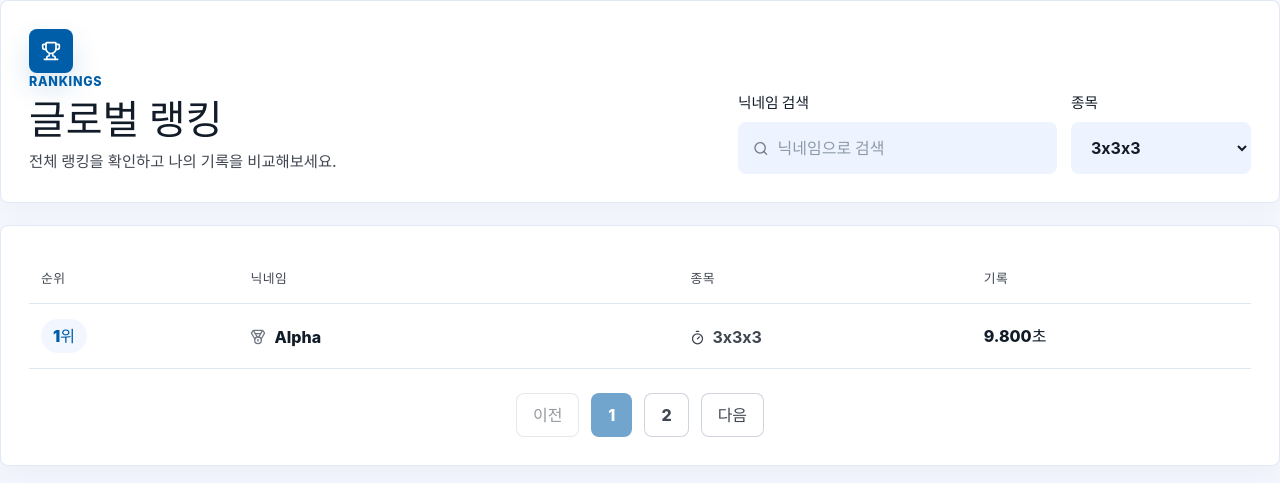
Test: RankingsPage › should_reset_page_to_first_when_event_changes
Check: the text "Alpha" is shown, box [274, 325, 321, 349]
Click the button "다음" at (732, 416), box [701, 394, 764, 438]
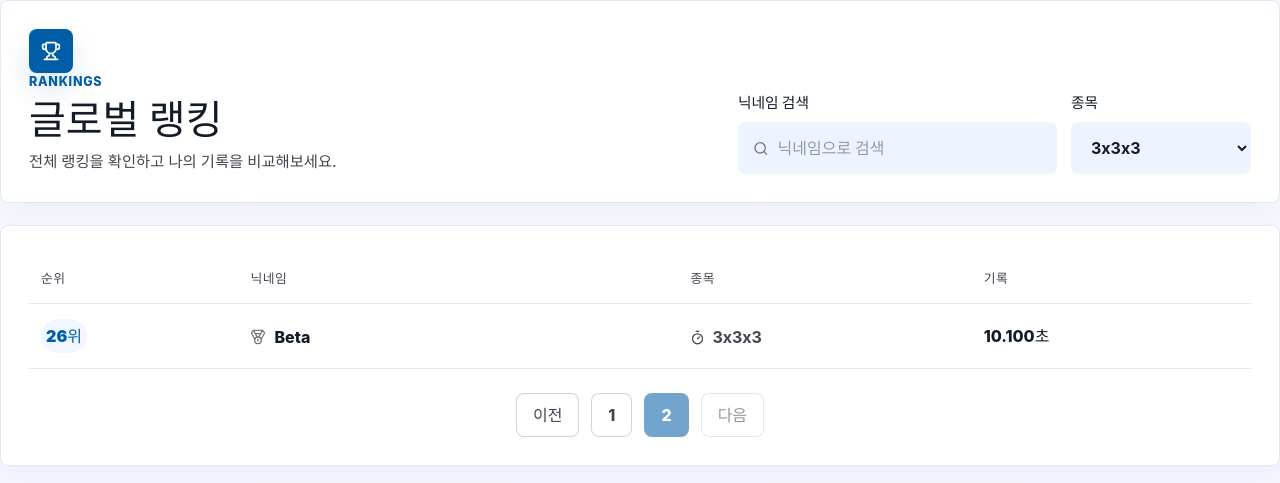
Check: the text "Beta" is shown, box [274, 325, 310, 349]
Select "2x2x2" in the dropdown labelled "종목" at (1161, 148), box [1071, 122, 1251, 174]
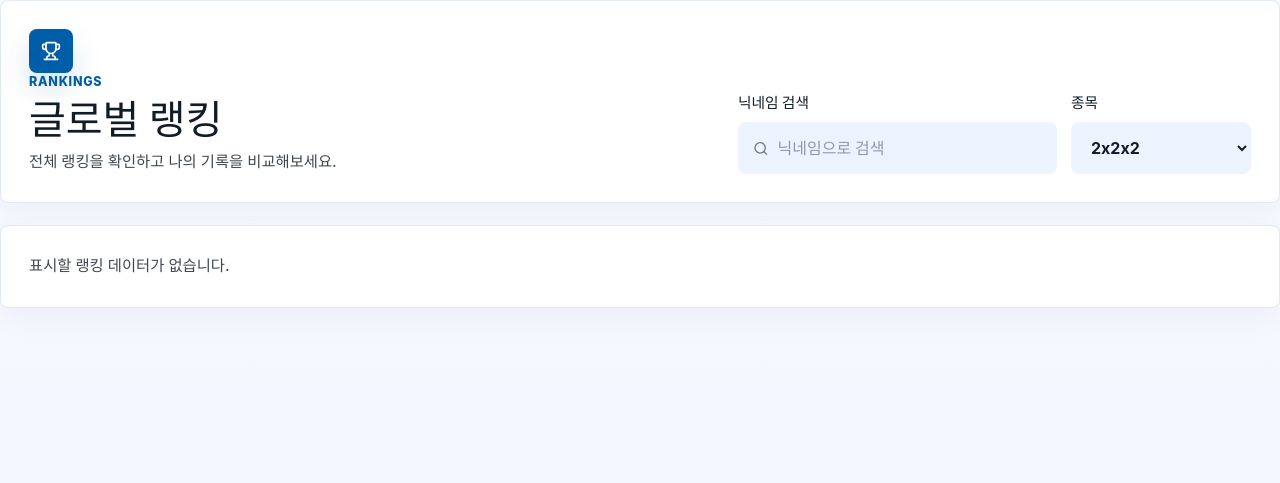
Check: the text "표시할 랭킹 데이터가 없습니다." is shown, box [29, 256, 230, 275]
